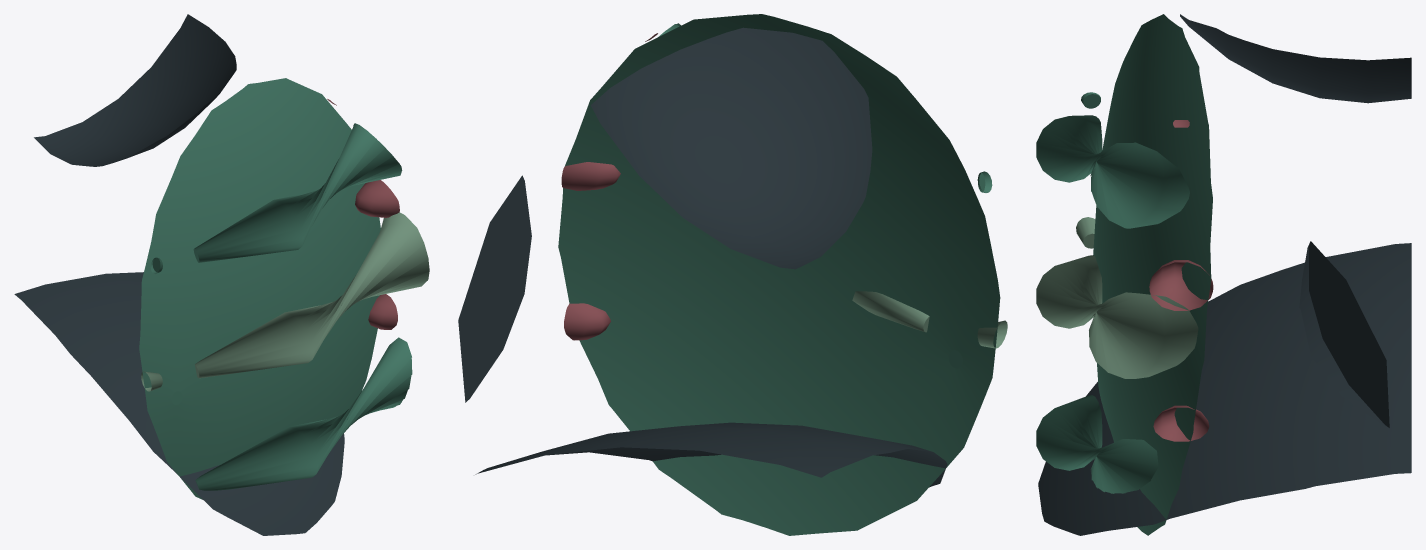
The model's file is bio_titan_sealed.glb.
3 renders of one model, left to right at view 1: azimuth 30°, elevation 25°; view 2: azimuth 150°, elevation 25°; view 3: azimuth 270°, elevation 25°, orthographic. The views are drawn at different scales.
Visible parts, largest first — view 1: bio_titan_sealed; view 2: bio_titan_sealed; view 3: bio_titan_sealed.
Part boxes in pixels (x1=…): bio_titan_sealed: x1=14, y1=14, x2=429, y2=535; bio_titan_sealed: x1=458, y1=14, x2=1007, y2=535; bio_titan_sealed: x1=1036, y1=14, x2=1411, y2=535.
Bounding box in the file's own units: 1.62 × 2.19 × 1.51.
